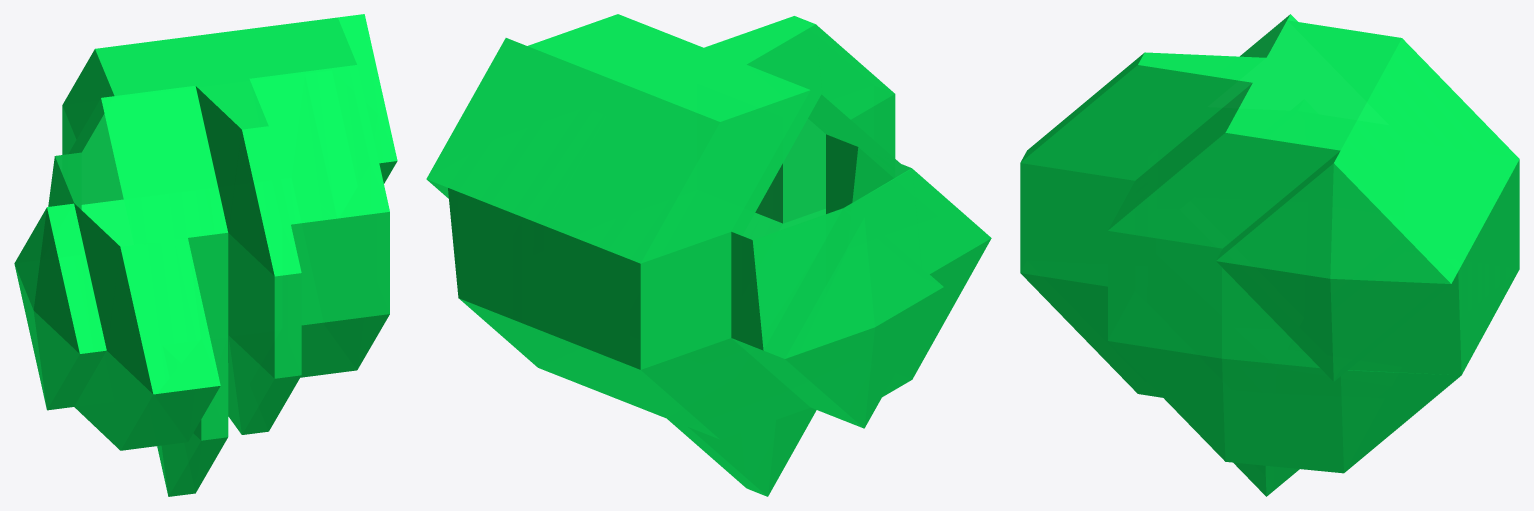
Rendered from SVV_Fragment11.gltf.
3 views of the same model, side by side, from view 1: azimuth 30°, elevation 25°; view 2: azimuth 150°, elevation 25°; view 3: azimuth 270°, elevation 25° (orthographic). The views are drawn at different scales.
Parts seen in each view (by area): view 1: Fragment11; view 2: Fragment11; view 3: Fragment11.
Boxes of the visible parts, x1=… form: Fragment11: x1=14, y1=14, x2=397, y2=496; Fragment11: x1=426, y1=14, x2=991, y2=496; Fragment11: x1=1020, y1=14, x2=1519, y2=496.
Size of the model in its own units: 2533 by 2631 by 2712.
